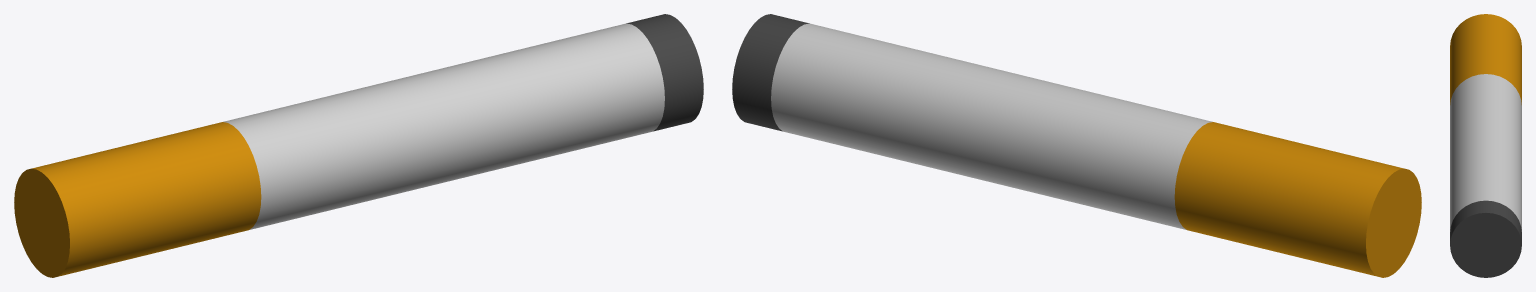
Rendered from Cig.fbx.
3 views of the same model, side by side, from view 1: azimuth 30°, elevation 25°; view 2: azimuth 150°, elevation 25°; view 3: azimuth 270°, elevation 25° (orthographic). The views are drawn at different scales.
Visible parts, largest first — view 1: Cig; view 2: Cig; view 3: Cig.
Boxes of the visible parts, x1,y1,x2,y2 form: Cig: (14,14,703,277); Cig: (732,14,1421,277); Cig: (1450,14,1521,277).
Bounding box in the file's own units: 181 × 27.73 × 27.73.
